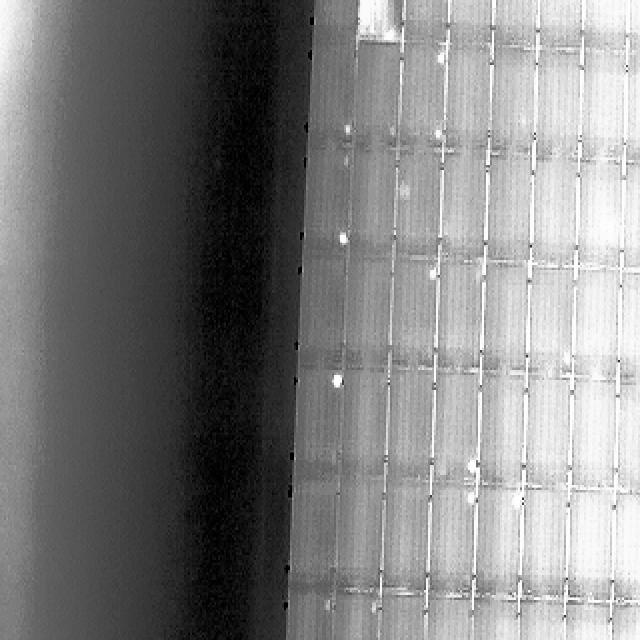Hotspots: (356, 0, 394, 45), (593, 211, 623, 257), (396, 174, 413, 202), (463, 456, 482, 478), (331, 368, 343, 394), (430, 48, 446, 67), (465, 490, 480, 510), (507, 490, 521, 510), (339, 117, 353, 137), (335, 229, 350, 247), (428, 262, 439, 286), (387, 118, 397, 143), (428, 130, 442, 144)
PV-modules: (337, 366, 388, 481), (475, 375, 526, 490), (333, 477, 384, 590), (382, 484, 432, 598), (346, 147, 396, 260), (473, 488, 523, 601), (433, 372, 482, 487), (569, 271, 618, 384), (530, 158, 580, 268), (527, 270, 576, 382), (425, 487, 474, 599), (386, 369, 434, 483), (342, 262, 391, 373), (567, 380, 616, 491), (304, 147, 352, 260), (300, 259, 348, 372), (479, 267, 528, 377), (521, 490, 570, 600), (525, 378, 573, 490), (348, 41, 398, 148), (488, 49, 536, 160), (437, 264, 485, 375), (292, 479, 340, 590), (564, 493, 612, 604), (296, 367, 342, 482), (578, 162, 626, 272), (442, 153, 490, 263), (390, 262, 437, 374), (581, 54, 628, 166), (484, 157, 532, 266), (395, 152, 443, 260), (445, 49, 493, 157), (534, 53, 581, 163), (398, 45, 446, 152), (309, 41, 356, 146), (610, 493, 640, 605), (614, 380, 640, 492), (616, 273, 640, 385), (326, 590, 378, 640), (584, 0, 632, 53), (378, 590, 428, 640), (280, 590, 330, 640), (537, 0, 585, 50), (420, 595, 470, 640), (468, 595, 518, 640), (490, 0, 538, 46), (620, 162, 640, 270), (401, 0, 449, 45), (313, 0, 361, 45), (355, 0, 402, 45), (448, 0, 494, 45), (516, 597, 564, 640), (558, 600, 608, 640), (622, 57, 640, 165), (606, 602, 640, 640), (624, 0, 640, 55)
